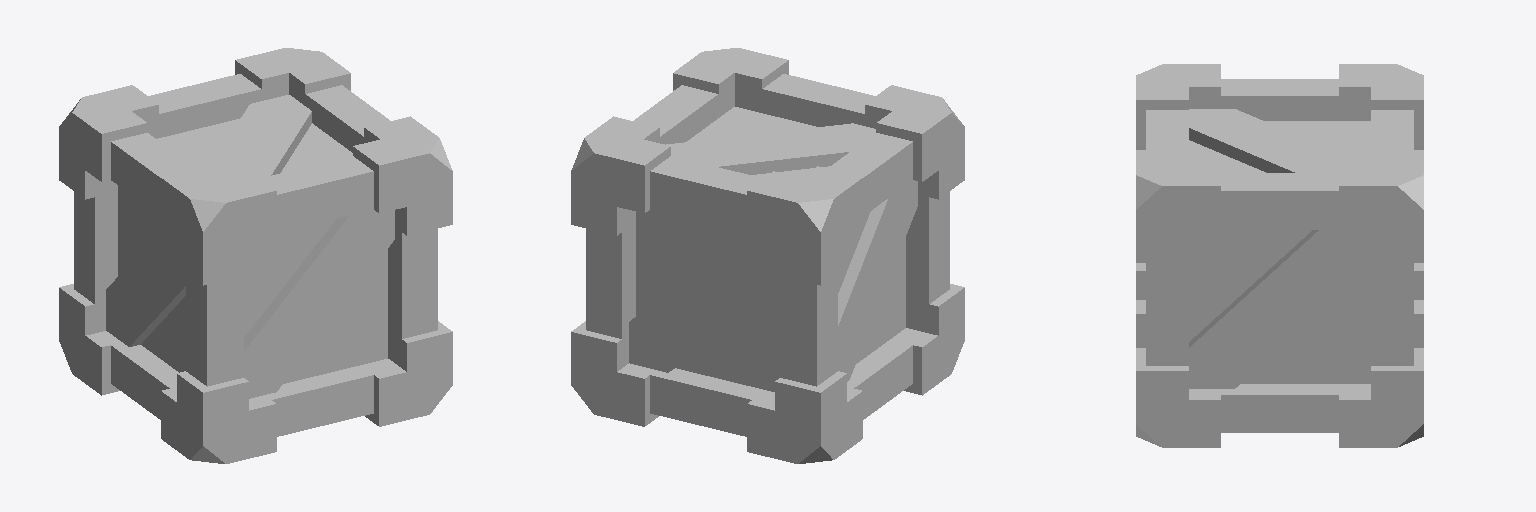
File: crateStrong.obj
3 renders of one model, left to right at view 1: azimuth 30°, elevation 25°; view 2: azimuth 150°, elevation 25°; view 3: azimuth 270°, elevation 25°, orthographic.
Parts seen in each view (by area): view 1: crateStrong; view 2: crateStrong; view 3: crateStrong.
Boxes of the visible parts, box(x1,y1,x2,y2) form: crateStrong: box(59, 48, 452, 463); crateStrong: box(571, 48, 964, 463); crateStrong: box(1136, 64, 1423, 447).
Size of the model in its own units: 0.54 by 0.54 by 0.54.